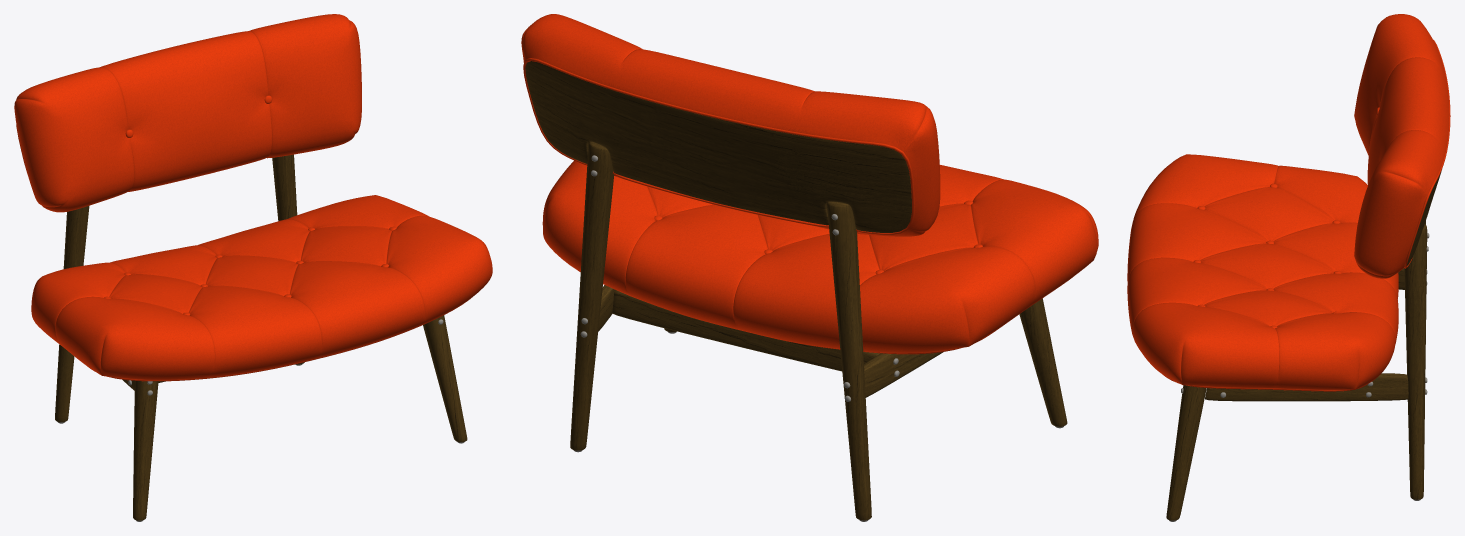
File: khr_sheen_chair.gltf
3 renders of one model, left to right at view 1: azimuth 30°, elevation 25°; view 2: azimuth 150°, elevation 25°; view 3: azimuth 270°, elevation 25°, orthographic. The views are drawn at different scales.
Visible parts, largest first — view 1: SheenChair_fabric, SheenChair_wood; view 2: SheenChair_fabric, SheenChair_wood; view 3: SheenChair_fabric, SheenChair_wood.
Part boxes in pixels (<box>): SheenChair_fabric: <box>14,14,492,381</box>; SheenChair_wood: <box>55,154,467,520</box>; SheenChair_fabric: <box>521,14,1098,354</box>; SheenChair_wood: <box>525,61,1067,520</box>; SheenChair_fabric: <box>1127,14,1450,391</box>; SheenChair_wood: <box>1166,170,1441,520</box>.
Bounding box in the file's own units: 0.8266 × 0.6862 × 0.5703.
3 materials, 2 textured.
